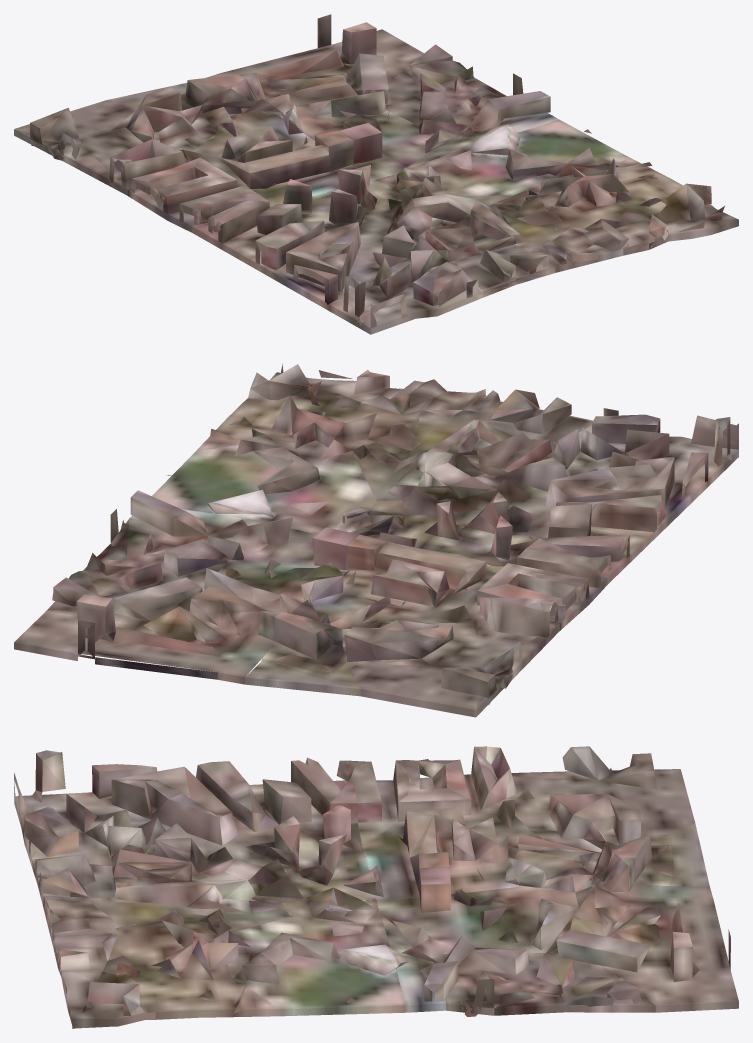
The picture shows the model from 3 angles, top to bottom: view 1: azimuth 30°, elevation 25°; view 2: azimuth 150°, elevation 25°; view 3: azimuth 270°, elevation 25°; orthographic projection. The views are drawn at different scales.
Visible parts, largest first — view 1: Mesh_0; view 2: Mesh_0; view 3: Mesh_0.
Boxes of the visible parts, <box> form: Mesh_0: <box>14,14,738,334</box>; Mesh_0: <box>14,363,738,717</box>; Mesh_0: <box>14,746,738,1028</box>.
Size of the model in its own units: 532 by 74.21 by 659.
Materials: 2 (2 with a texture image).
